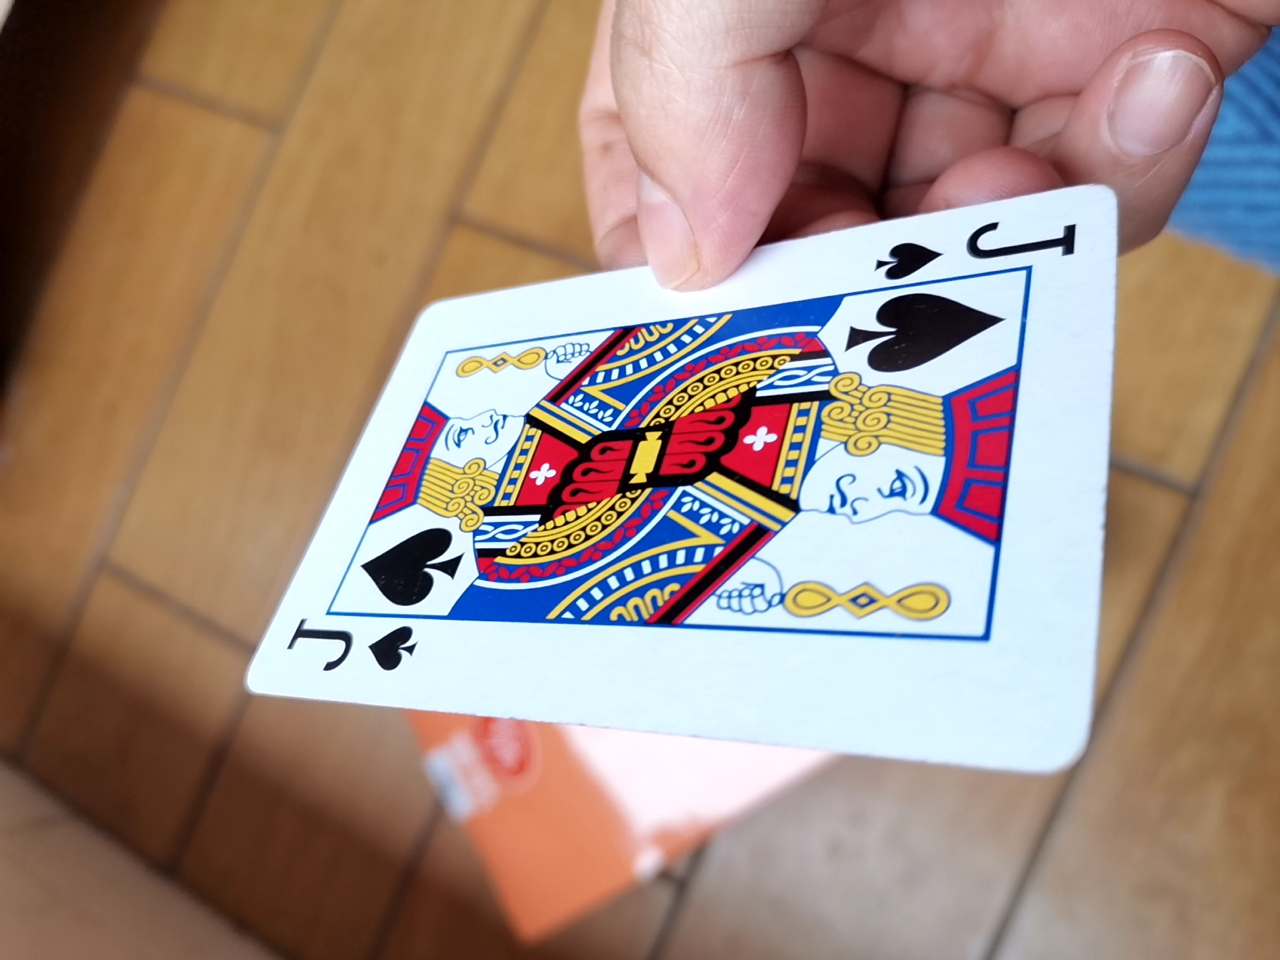ht j: (222, 183, 1122, 789)
